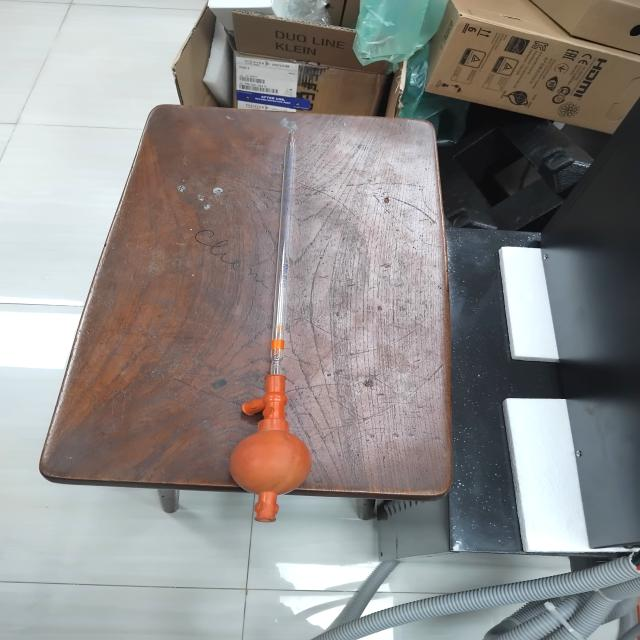Volumetric_Pipet: (220, 97, 324, 540)
